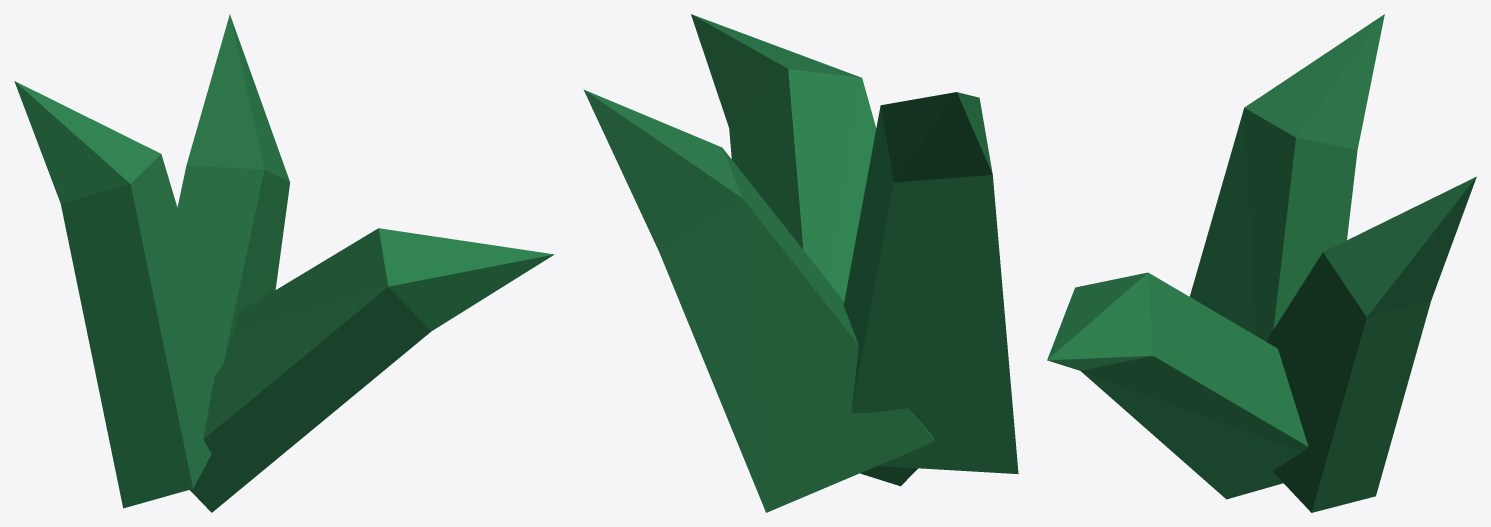
File: SM_Env_Grass_01-optimized.glb
3 renders of one model, left to right at view 1: azimuth 30°, elevation 25°; view 2: azimuth 150°, elevation 25°; view 3: azimuth 270°, elevation 25°, orthographic. The views are drawn at different scales.
Parts seen in each view (by area): view 1: SM_Env_Grass_01; view 2: SM_Env_Grass_01; view 3: SM_Env_Grass_01.
Part boxes in pixels (bbox=[...]): SM_Env_Grass_01: bbox=[14, 14, 554, 512]; SM_Env_Grass_01: bbox=[583, 14, 1018, 512]; SM_Env_Grass_01: bbox=[1047, 14, 1476, 512].
Size of the model in its own units: 2.99 by 3.06 by 2.82.
Materials: 1 (1 with a texture image).
